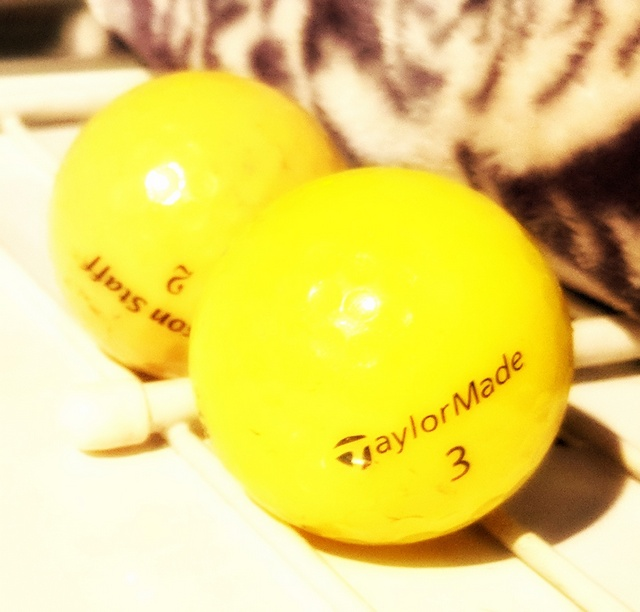ball: (190, 167, 578, 555)
